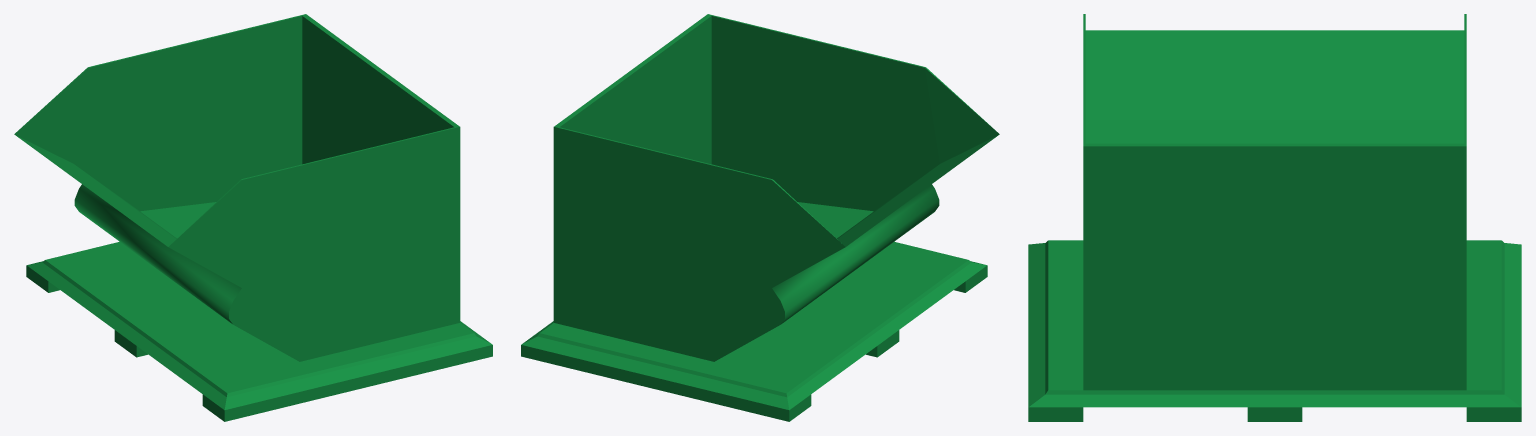
Rendered from ForkLiftGarbage.fbx.
3 renders of one model, left to right at view 1: azimuth 30°, elevation 25°; view 2: azimuth 150°, elevation 25°; view 3: azimuth 270°, elevation 25°, orthographic. The views are drawn at different scales.
Visible parts, largest first — view 1: ForkLiftGarbage; view 2: ForkLiftGarbage; view 3: ForkLiftGarbage.
Part boxes in pixels (x1=…): ForkLiftGarbage: x1=14, y1=14, x2=492, y2=421; ForkLiftGarbage: x1=521, y1=14, x2=999, y2=421; ForkLiftGarbage: x1=1028, y1=14, x2=1521, y2=421.
Size of the model in its own units: 112 by 76.56 by 127.
